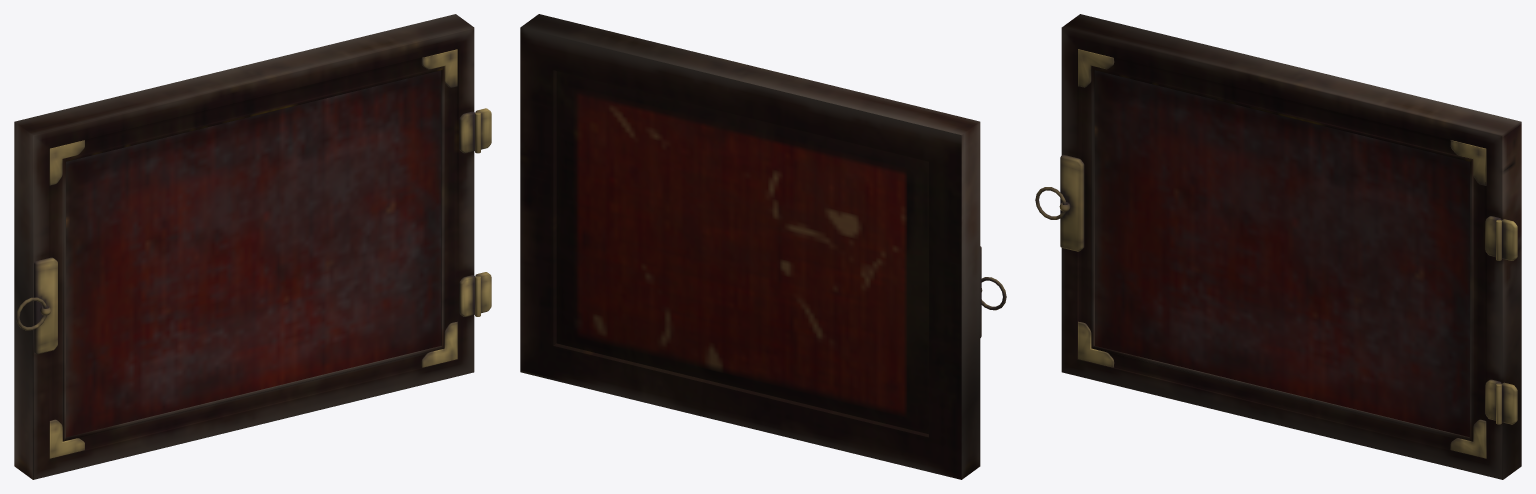
The model's file is SM_BookCabinet224_door02.fbx.
3 views of the same model, side by side, from view 1: azimuth 30°, elevation 25°; view 2: azimuth 150°, elevation 25°; view 3: azimuth 330°, elevation 25° (orthographic).
Visible parts, largest first — view 1: SM_BookCabinet224_door02; view 2: SM_BookCabinet224_door02; view 3: SM_BookCabinet224_door02.
Boxes of the visible parts, x1,y1,x2,y2 form: SM_BookCabinet224_door02: (14,14,491,479); SM_BookCabinet224_door02: (520,14,1006,479); SM_BookCabinet224_door02: (1035,14,1521,479).
Size of the model in its own units: 60.75 by 41.86 by 5.7.
